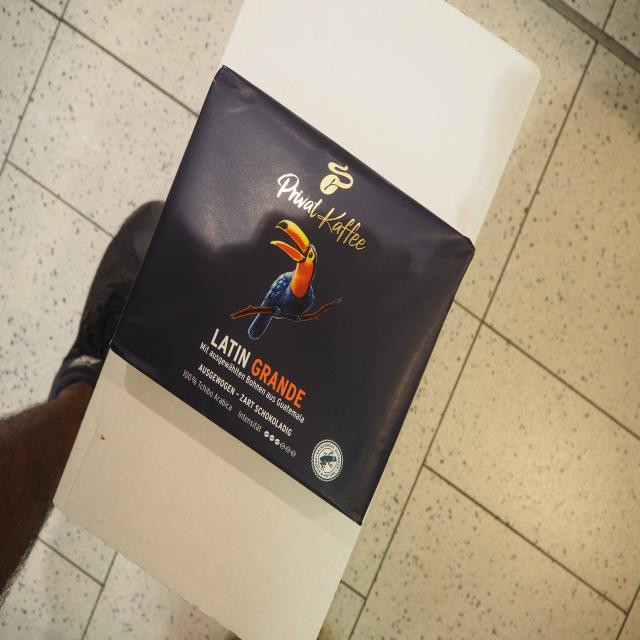LG Gemahlen: (104, 56, 482, 534)
